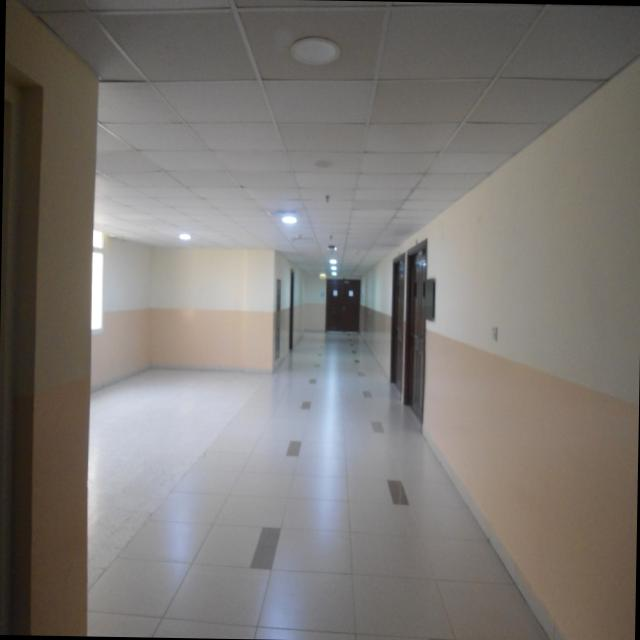door: (0, 62, 48, 634), (402, 254, 426, 427), (323, 274, 371, 333), (386, 248, 405, 382), (286, 270, 297, 344)
wall: (378, 58, 640, 640), (142, 240, 276, 370), (84, 228, 148, 372)
